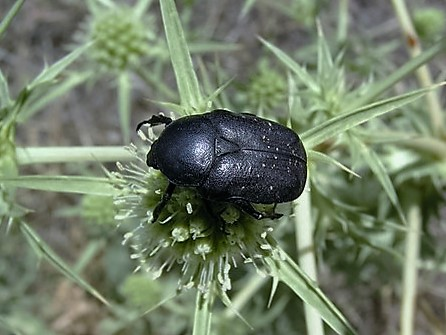Protaetia_vidua: (127, 103, 313, 234)
